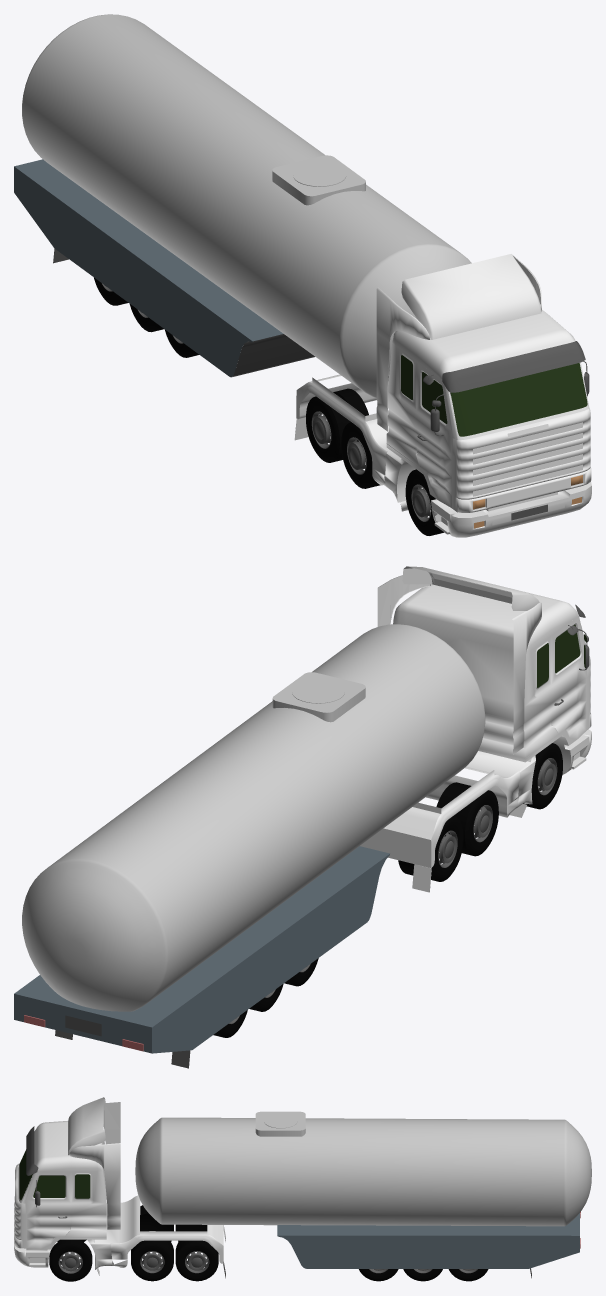
Rendered from car16.glb.
3 renders of one model, top to bottom at view 1: azimuth 30°, elevation 25°; view 2: azimuth 150°, elevation 25°; view 3: azimuth 270°, elevation 25°, orthographic. The views are drawn at different scales.
Visible parts, largest first — view 1: ~09___Default_materialGroup_13, VehicleBody, ~16TankCar02_materialGroup_14, obj3~Material__32_materialGroup_3, ~car1610_materialGroup_10, obj11~car1608_materialGroup_8, ~_____21_materialGroup_17, obj4~??_10_materialGroup_4, obj15~16TankCar04_materialGroup_12, ~??_13_materialGroup_16, obj5~??_19_materialGroup_5, ~??_10_materialGroup_6; view 2: ~09___Default_materialGroup_13, ~16TankCar02_materialGroup_14, VehicleBody, ~car1610_materialGroup_10, ~_____21_materialGroup_17, ~??_13_materialGroup_16, obj3~Material__32_materialGroup_3, obj11~car1608_materialGroup_8, ~??_19_materialGroup_7, ~??_10_materialGroup_6; view 3: ~09___Default_materialGroup_13, ~16TankCar02_materialGroup_14, VehicleBody, ~car1610_materialGroup_10, ~_____21_materialGroup_17, ~??_13_materialGroup_16, obj3~Material__32_materialGroup_3, obj24~_____21_materialGroup_18, obj19~_____21_materialGroup_15, obj43~_____21_materialGroup_22, obj4~??_10_materialGroup_4, obj11~car1608_materialGroup_8 (+1 smaller).
Part boxes in pixels (x1,y1,x2,y2): ~09___Default_materialGroup_13: (22, 14, 471, 397); VehicleBody: (376, 254, 591, 512); ~16TankCar02_materialGroup_14: (14, 159, 283, 377); obj3~Material__32_materialGroup_3: (401, 355, 587, 436); ~car1610_materialGroup_10: (296, 374, 591, 537); obj11~car1608_materialGroup_8: (299, 361, 583, 537); ~_____21_materialGroup_17: (306, 388, 443, 535); obj4~??_10_materialGroup_4: (442, 341, 585, 520); obj15~16TankCar04_materialGroup_12: (232, 334, 314, 376); ~??_13_materialGroup_16: (102, 283, 431, 521); obj5~??_19_materialGroup_5: (420, 362, 589, 440); ~??_10_materialGroup_6: (53, 248, 589, 440); ~09___Default_materialGroup_13: (22, 624, 485, 1011); ~16TankCar02_materialGroup_14: (14, 846, 389, 1053); VehicleBody: (377, 566, 591, 762); ~car1610_materialGroup_10: (360, 729, 591, 868); ~_____21_materialGroup_17: (398, 743, 562, 881); ~??_13_materialGroup_16: (229, 758, 557, 1023); obj3~Material__32_materialGroup_3: (537, 624, 586, 687); obj11~car1608_materialGroup_8: (426, 615, 589, 816); ~??_19_materialGroup_7: (412, 641, 548, 892); ~??_10_materialGroup_6: (55, 625, 589, 1068); ~09___Default_materialGroup_13: (135, 1111, 591, 1226); ~16TankCar02_materialGroup_14: (277, 1213, 579, 1268); VehicleBody: (14, 1097, 120, 1249); ~car1610_materialGroup_10: (14, 1195, 223, 1269); ~_____21_materialGroup_17: (57, 1205, 488, 1281); ~??_13_materialGroup_16: (58, 1251, 477, 1273); obj3~Material__32_materialGroup_3: (19, 1149, 90, 1200); obj24~_____21_materialGroup_18: (49, 1239, 92, 1281); obj19~_____21_materialGroup_15: (131, 1240, 173, 1281); obj43~_____21_materialGroup_22: (175, 1240, 218, 1281); obj4~??_10_materialGroup_4: (26, 1126, 38, 1175); obj11~car1608_materialGroup_8: (14, 1172, 106, 1269).
Bounding box in the file's own units: 2.86 × 4.04 × 14.35.
